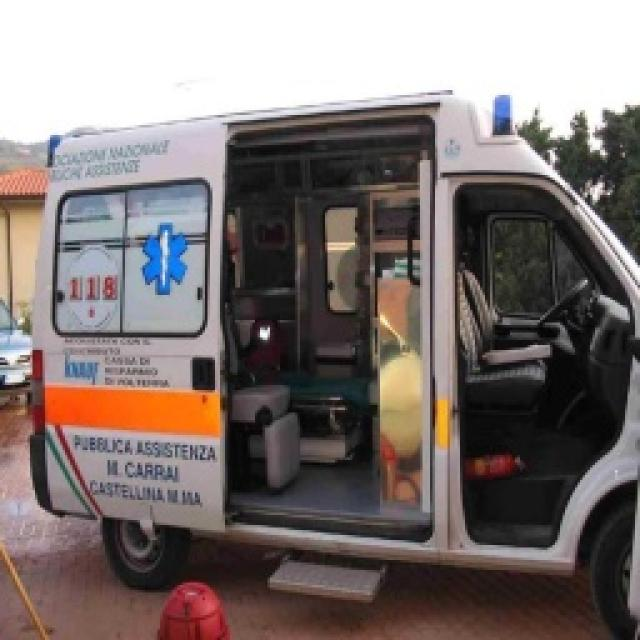emergency-vehicle: (24, 94, 640, 640)
